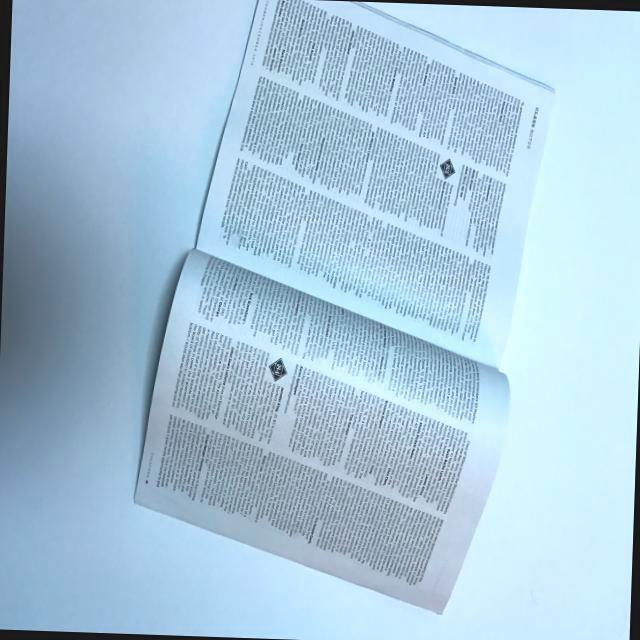paper: (94, 0, 573, 640)
